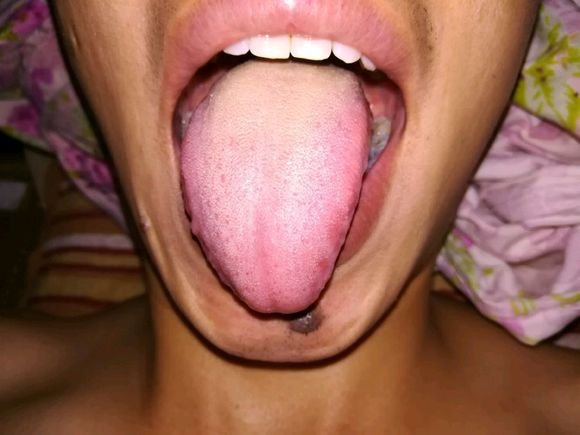hongshe: (181, 57, 374, 315)
huangtaishe: (181, 57, 374, 315)
